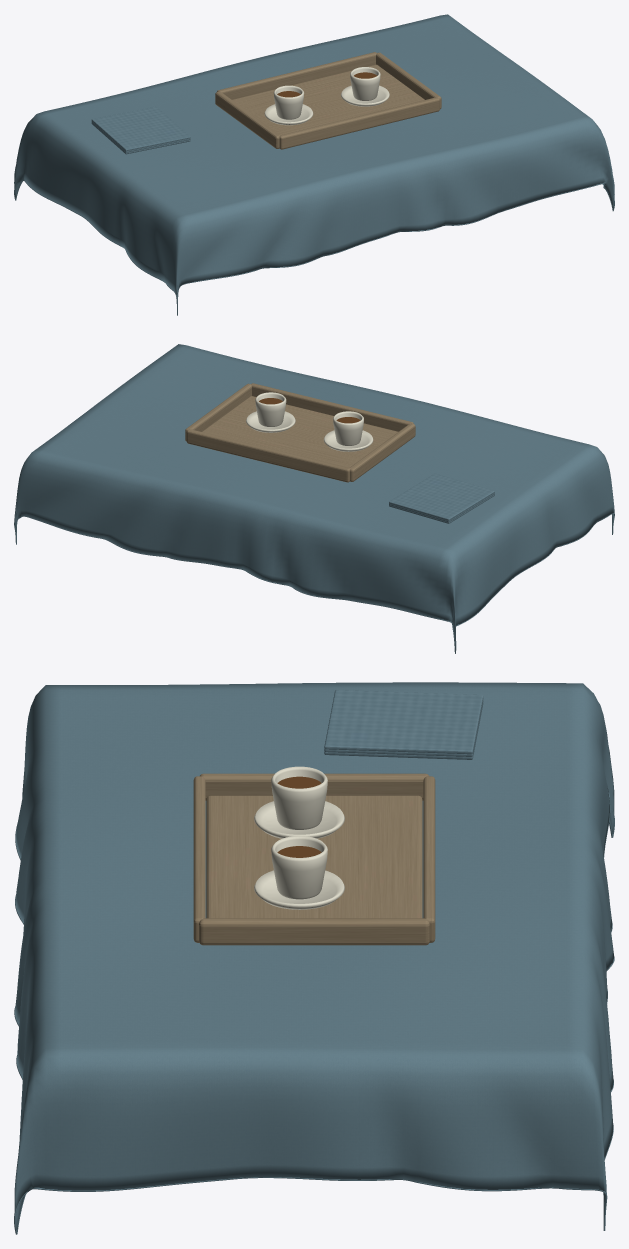
The model's file is life-v10.glb.
3 views of the same model, one above another, from view 1: azimuth 30°, elevation 25°; view 2: azimuth 150°, elevation 25°; view 3: azimuth 270°, elevation 25° (orthographic). The views are drawn at different scales.
Visible parts, largest first — view 1: v10_life_ground; view 2: v10_life_ground; view 3: v10_life_ground.
Boxes of the visible parts, x1,y1,x2,y2 form: v10_life_ground: (14,14,614,315); v10_life_ground: (14,344,614,653); v10_life_ground: (14,682,614,1234).
Bounding box in the file's own units: 1.27 × 0.3427 × 0.8064.
4 materials, 3 textured.
